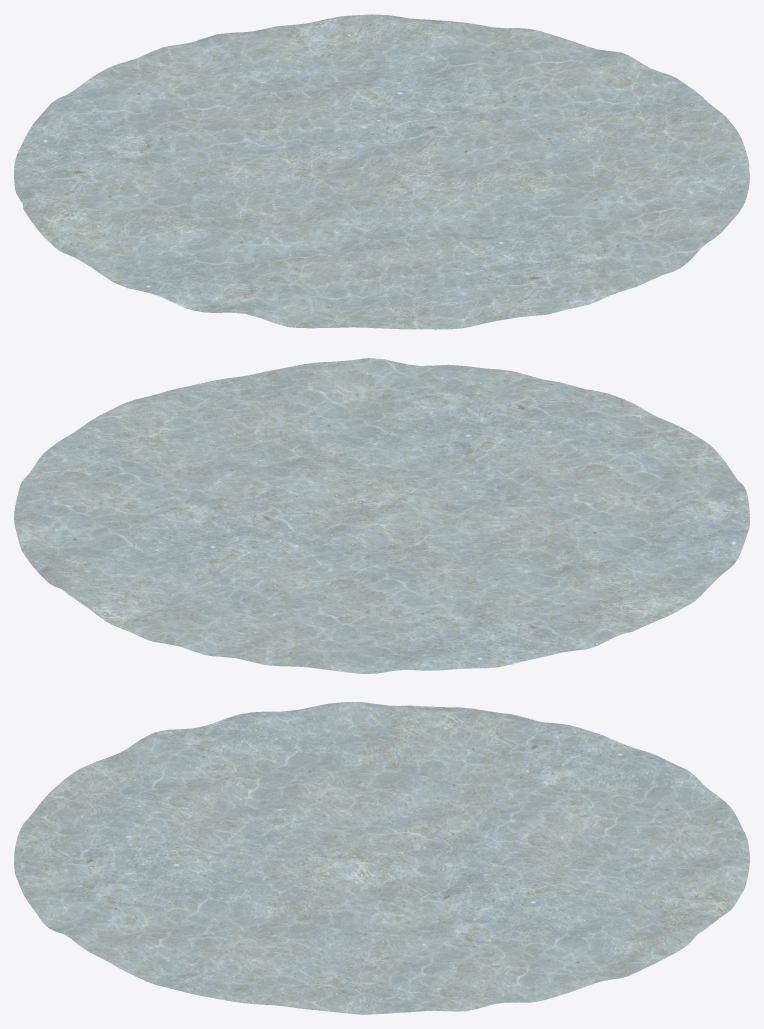
The model's file is water_round.gltf.
3 views of the same model, one above another, from view 1: azimuth 30°, elevation 25°; view 2: azimuth 150°, elevation 25°; view 3: azimuth 270°, elevation 25° (orthographic).
Parts seen in each view (by area): view 1: f_1Shape.003; view 2: f_1Shape.003; view 3: f_1Shape.003.
Part boxes in pixels (bbox=[...]): f_1Shape.003: bbox=[14, 14, 749, 329]; f_1Shape.003: bbox=[14, 358, 749, 673]; f_1Shape.003: bbox=[14, 702, 749, 1014].
Size of the model in its own units: 10.53 by 0.1601 by 10.53.
Materials: 1 (1 with a texture image).
